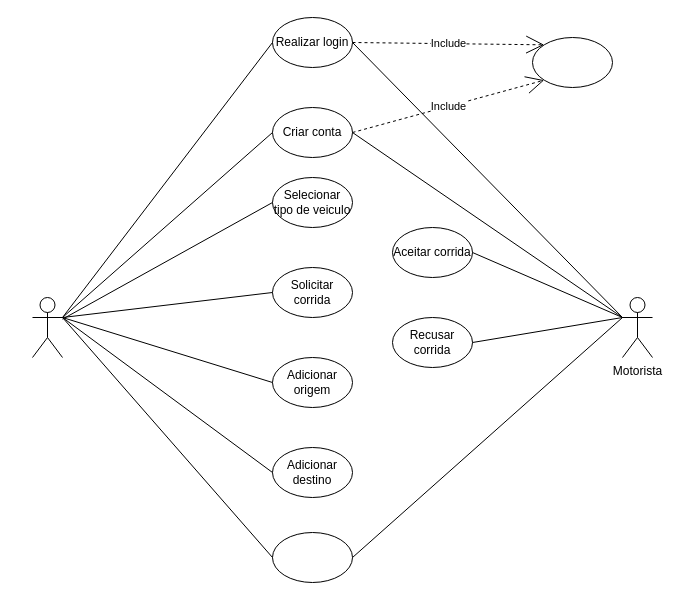
This 679x600 diagram has some shape labels left out. Here are the shapes that lost their labels. From the top down, the centre of each, then its label:
At (572,62): "Preencher dados".
At (47,327): "Passageiro".
At (312,557): "Cancelar corrida".
